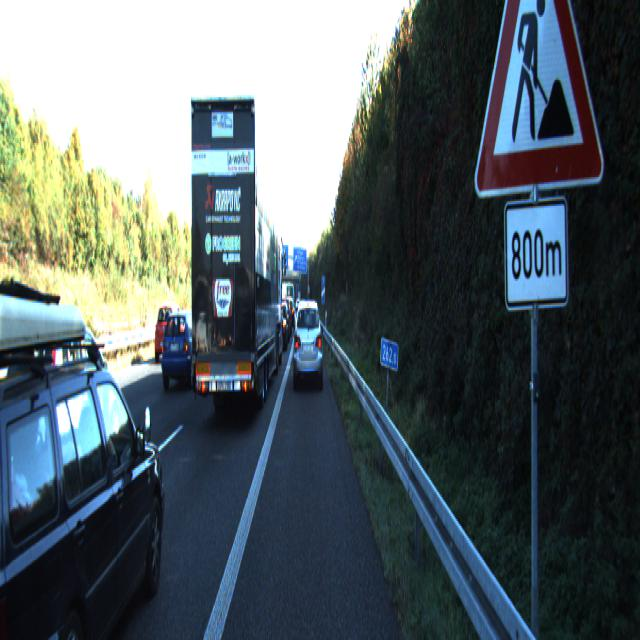Car: (0, 346, 169, 638), (190, 91, 282, 426), (0, 314, 123, 496), (162, 309, 207, 391), (292, 296, 323, 388), (154, 301, 189, 363), (270, 305, 288, 349)
